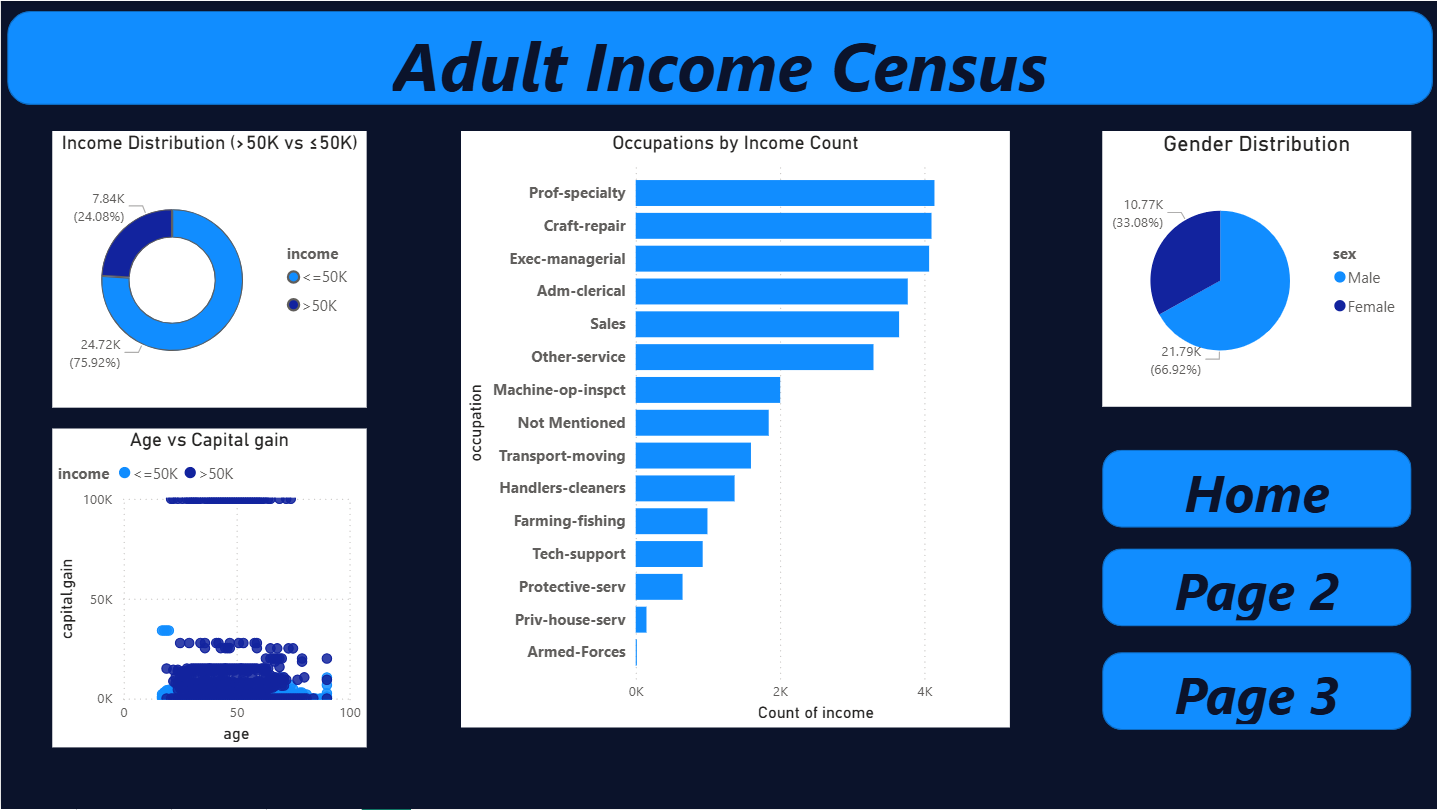

What the dashboard file says about the page in this screenshot:
{"tool":"powerbi","page":{"name":"Page 1","canvas":[1280,720],"ordinal":1},"visuals":[{"type":"shape","box":[5.8,8.7,1269.6,83.7],"z":0},{"type":"pieChart","title":"Gender Distribution","fields":{"Category":["Dataset for Excel.sex"],"Y":["CountNonNull(Dataset for Excel.sex)"]},"box":[981.1,115.4,275.6,245.3],"z":1000},{"type":"donutChart","title":"Income Distribution (>50K vs ≤50K)","fields":{"Category":["Dataset for Excel.income"],"Y":["CountNonNull(Dataset for Excel.income)"]},"box":[46.2,115.4,279.9,246.7],"z":2000},{"type":"clusteredBarChart","title":"Occupations by Income Count","fields":{"Category":["Dataset for Excel.occupation"],"Y":["CountNonNull(Dataset for Excel.income)"]},"box":[409.7,115.4,489.1,530.9],"z":3000},{"type":"scatterChart","title":"Age vs Capital gain","fields":{"Series":["Dataset for Excel.income"],"X":["Dataset for Excel.age"],"Y":["Dataset for Excel.capital.gain"]},"box":[46.2,380.9,279.9,284.2],"z":4000},{"type":"shape","box":[981.1,399.6,275.6,69.3],"z":5000},{"type":"shape","box":[981.1,580,275.6,69.3],"z":6000},{"type":"shape","box":[981.1,487.7,275.6,69.3],"z":7000}]}

Visuals, with their boxes in screenshot pixels (x1, y1, x2, y2), scaled from the page's 1280x720 canvas onto the 1437x810 screenshot:
shape: [7, 10, 1432, 104]
"Gender Distribution" pieChart: [1101, 130, 1411, 406]
"Income Distribution (>50K vs ≤50K)" donutChart: [52, 130, 366, 407]
"Occupations by Income Count" clusteredBarChart: [460, 130, 1009, 727]
"Age vs Capital gain" scatterChart: [52, 429, 366, 748]
shape: [1101, 450, 1411, 528]
shape: [1101, 652, 1411, 730]
shape: [1101, 549, 1411, 627]
